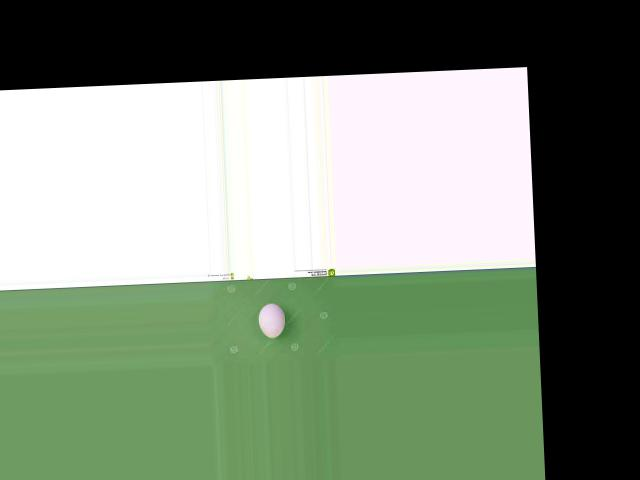egg: (258, 302, 285, 338)
